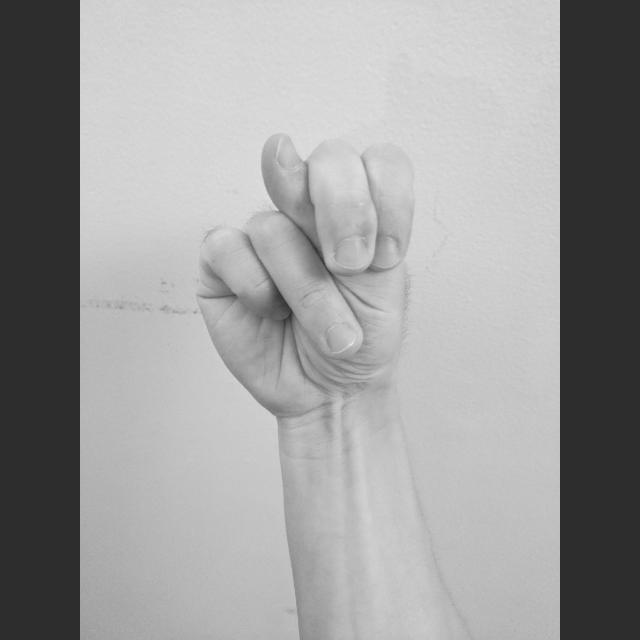N: (192, 125, 420, 422)
